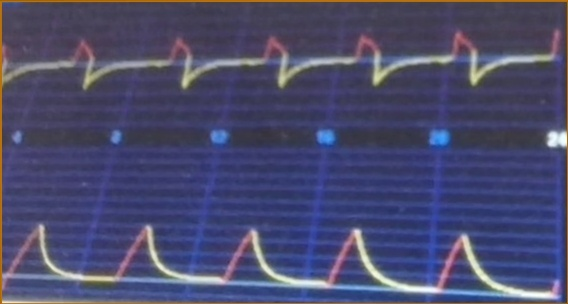Normal Flow: (3, 23, 559, 109)
Normal Volume: (4, 207, 561, 298)
